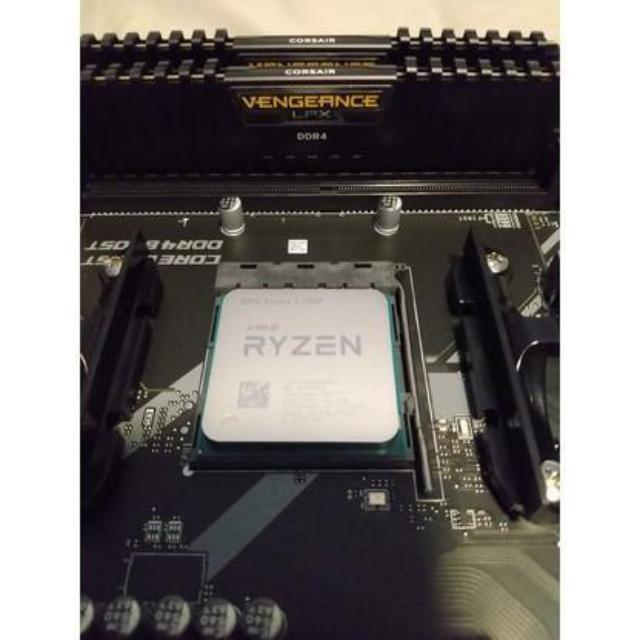CPU: (198, 285, 407, 460)
